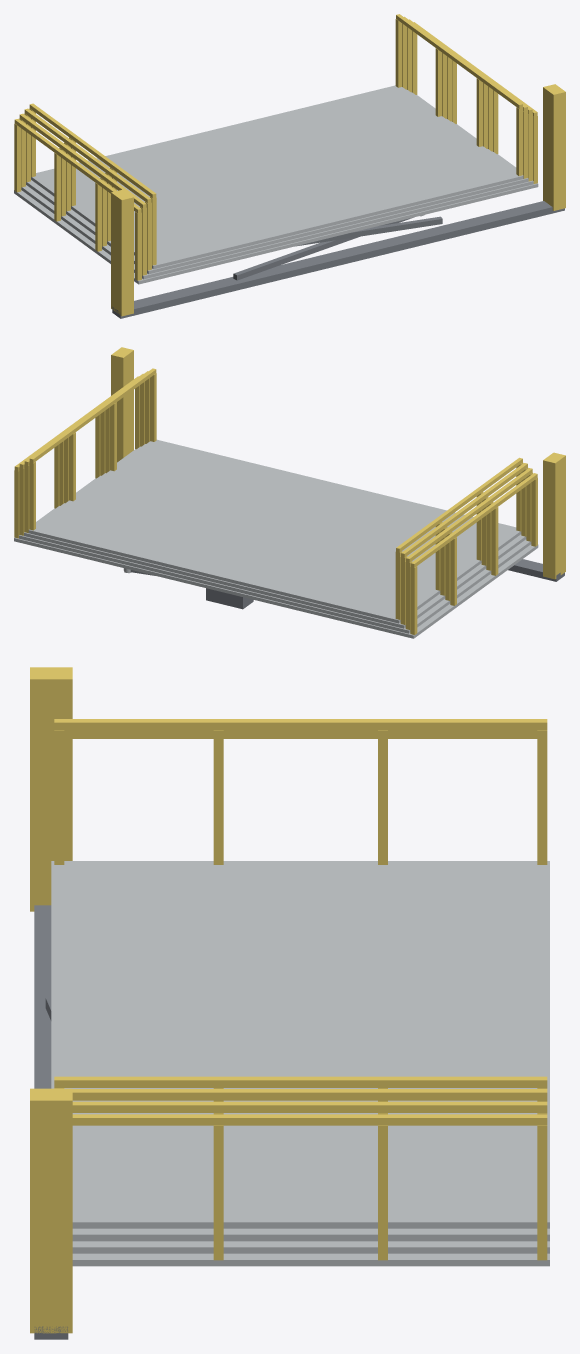
File: scissor_lattice_road.glb
3 views of the same model, one above another, from view 1: azimuth 30°, elevation 25°; view 2: azimuth 150°, elevation 25°; view 3: azimuth 270°, elevation 25° (orthographic). The views are drawn at different scales.
Visible parts, largest first — view 1: plate_0, bridge, plate_3, plate_2, plate_1, arm_4_1, arm_4_0; view 2: plate_0, plate_3, plate_2, plate_1, bridge; view 3: plate_0, bridge, plate_3, plate_1, plate_2.
Boxes of the visible parts, box(x1,y1,x2,y2) form: plate_0: box(29, 14, 523, 269); bridge: box(111, 84, 565, 318); plate_3: box(14, 22, 538, 284); plate_2: box(19, 19, 533, 279); plate_1: box(24, 16, 528, 274); arm_4_1: box(233, 215, 424, 280); arm_4_0: box(296, 216, 442, 246); plate_0: box(28, 368, 523, 623); plate_3: box(14, 376, 538, 638); plate_2: box(19, 373, 532, 633); plate_1: box(24, 371, 528, 628); bridge: box(111, 347, 565, 609); plate_0: box(51, 719, 549, 1228); bridge: box(30, 667, 72, 1339); plate_3: box(64, 736, 549, 1266); plate_1: box(64, 730, 549, 1241); plate_2: box(64, 733, 549, 1253).
Bounding box in the file's own units: 7.2 × 1.85 × 3.65.
